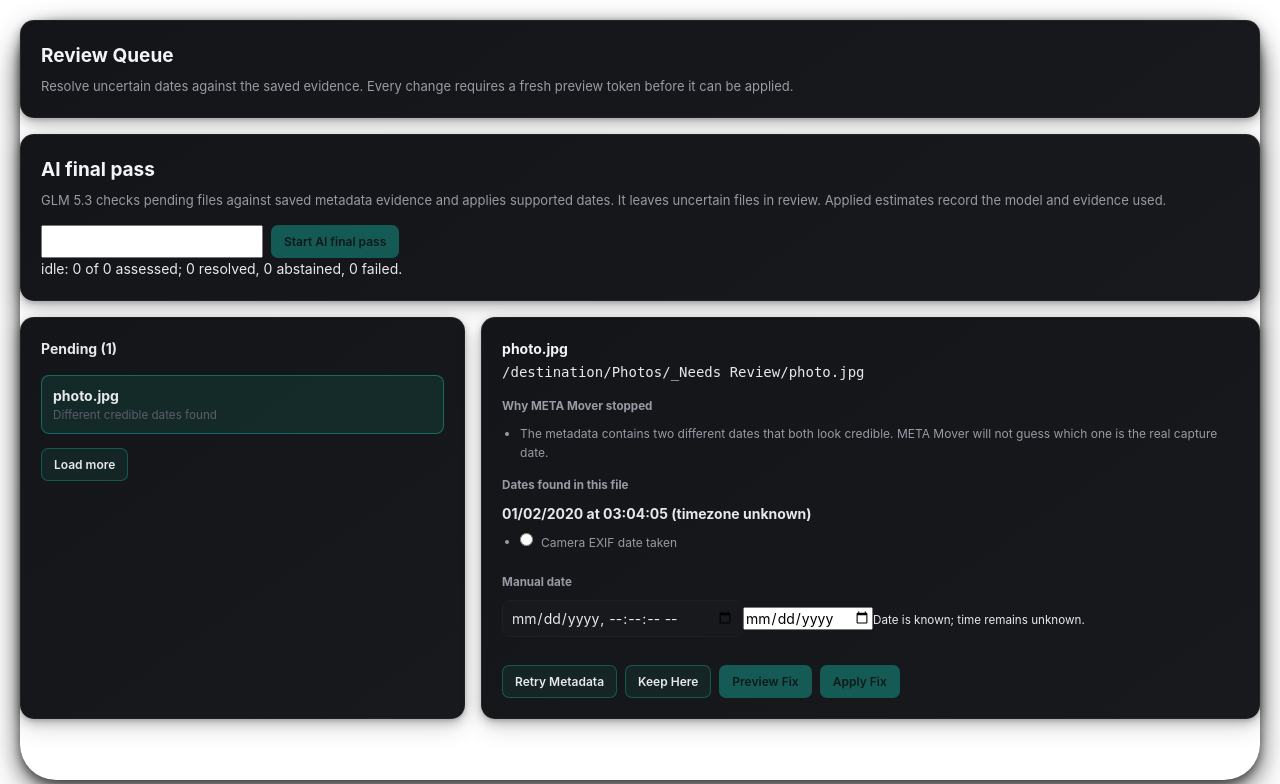
Scenario: ReviewView › keeps failed rows visible and refreshes the service error truth
Expected: the text "Camera EXIF date taken" is shown, [541, 533, 677, 552]
Step 1. Click the radio button labelled "Camera EXIF date taken" → (527, 539), box [520, 533, 533, 546]
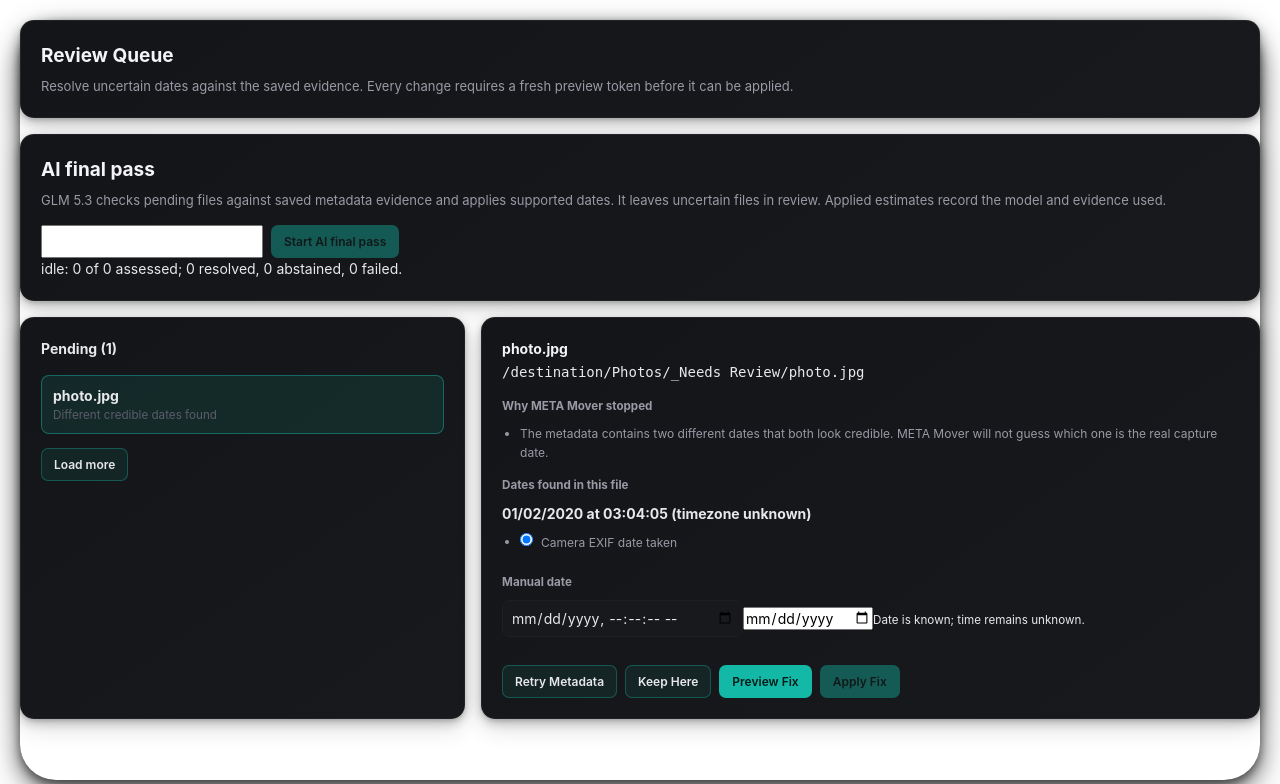
Step 2. Click the button "Preview Fix" → (766, 681), box [719, 665, 812, 698]
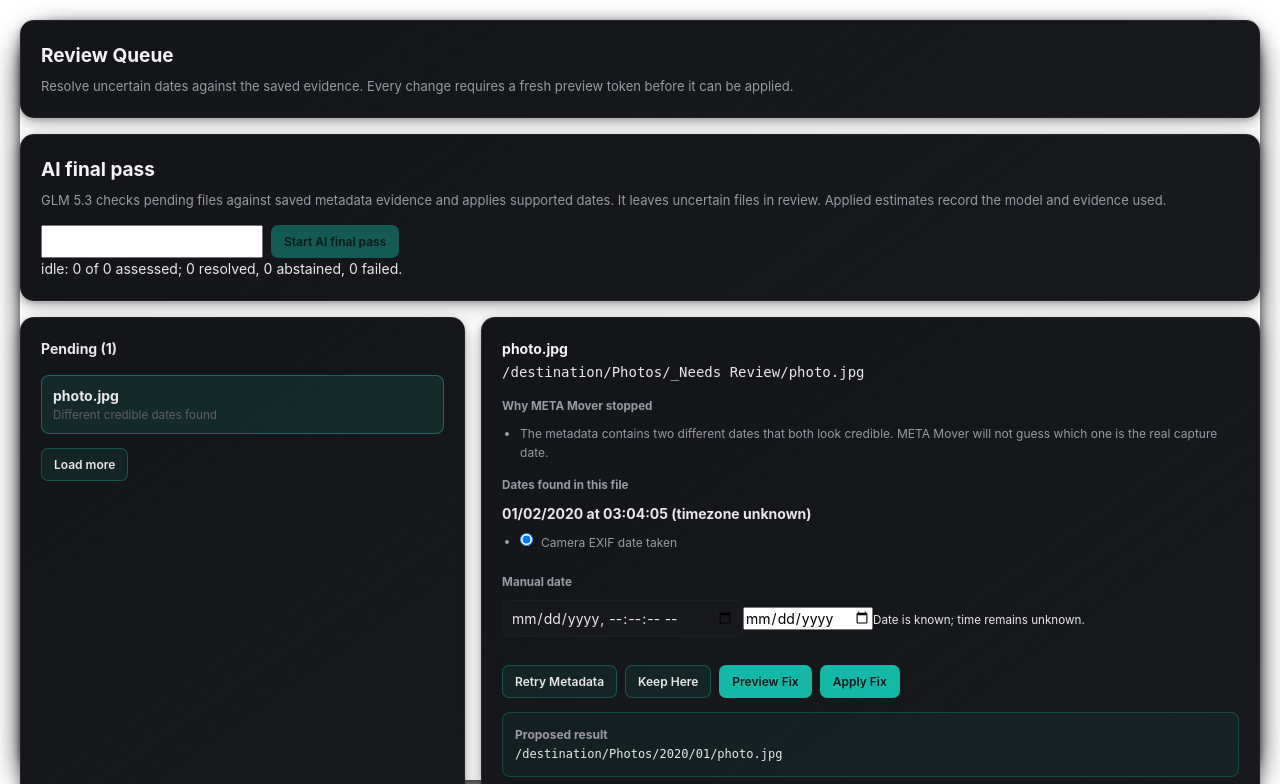
Now the text "/destination/Photos/2020/01/photo.jpg" is shown, box [515, 747, 782, 761]
Step 3. Click the button "Apply Fix" → (860, 681), box [820, 665, 900, 698]
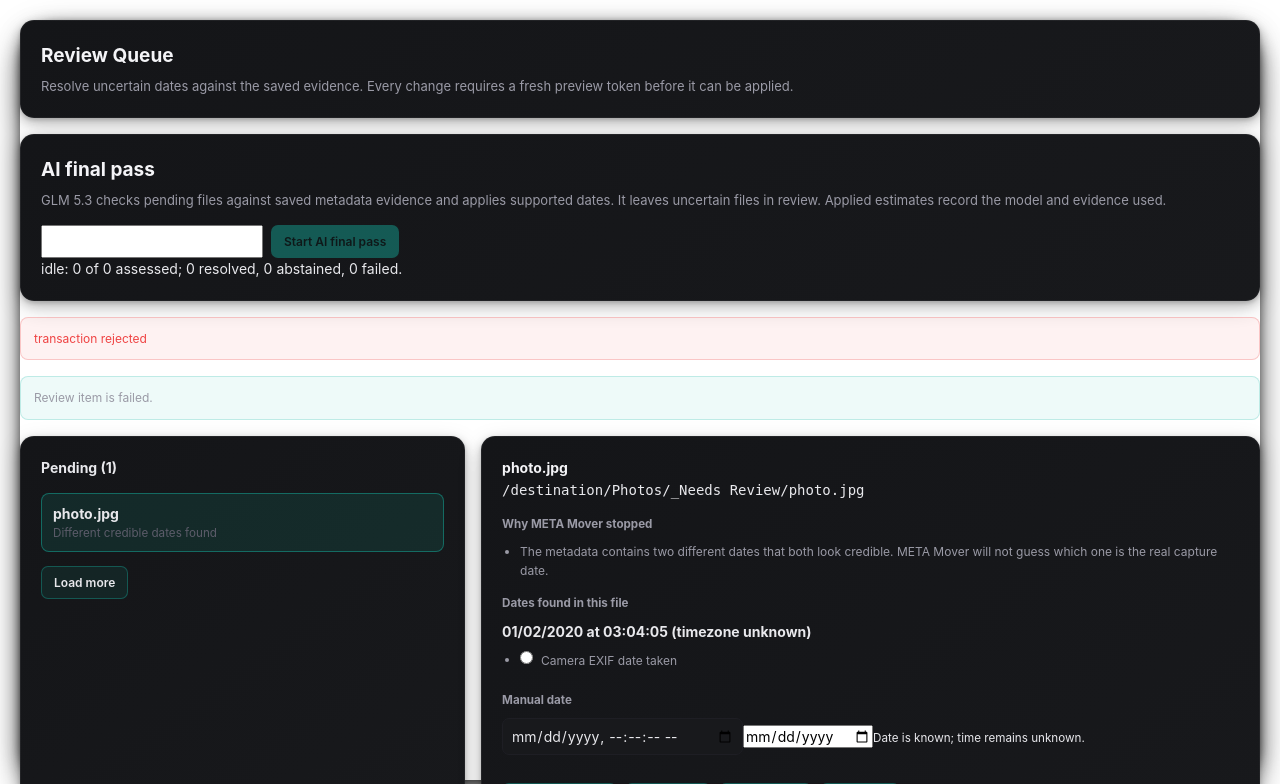
Now the message reads "transaction rejected", box [34, 331, 147, 346]
Now the text "photo.jpg" is shown 2 times, box [53, 505, 119, 522]; [502, 458, 568, 476]
